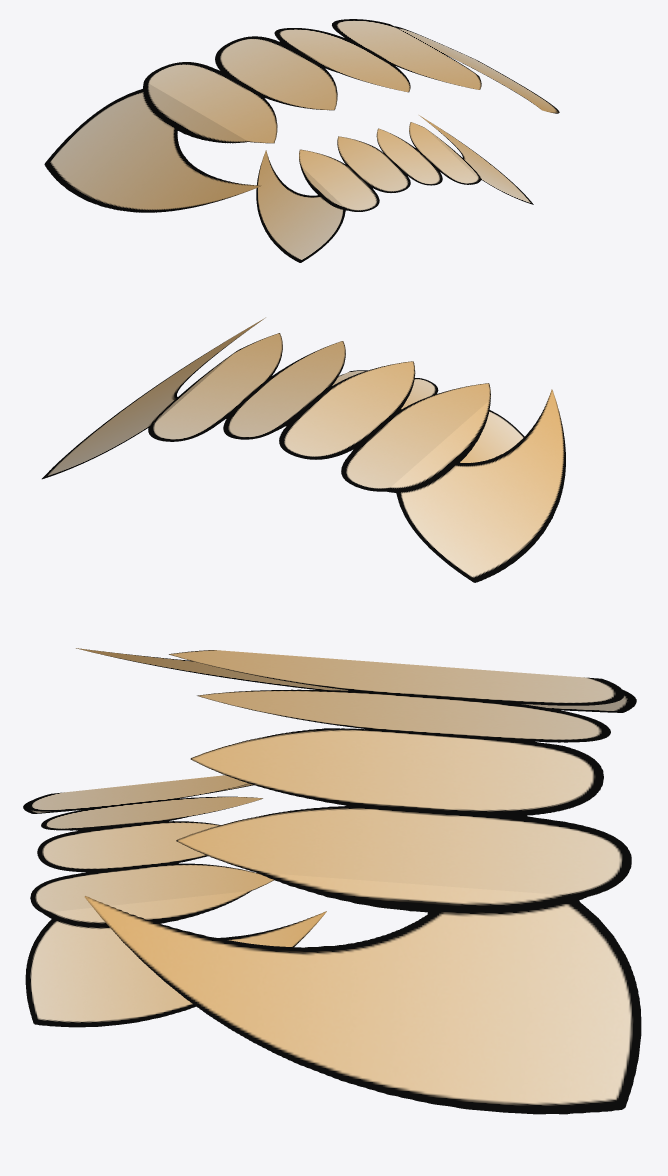
The model's file is BiteTeeth_static_mesh.fbx.
3 views of the same model, one above another, from view 1: azimuth 30°, elevation 25°; view 2: azimuth 150°, elevation 25°; view 3: azimuth 270°, elevation 25° (orthographic). The views are drawn at different scales.
Parts seen in each view (by area): view 1: UpperTeeth, LowerTeeth; view 2: UpperTeeth, LowerTeeth; view 3: UpperTeeth, LowerTeeth.
Part boxes in pixels (x1,y1,x2,y2): UpperTeeth: (44, 19, 559, 212); LowerTeeth: (256, 115, 533, 262); UpperTeeth: (42, 317, 565, 582); LowerTeeth: (332, 370, 524, 462); UpperTeeth: (76, 648, 641, 1114); LowerTeeth: (23, 775, 326, 1027).
Bounding box in the file's own units: 3200 × 794 × 1973.
